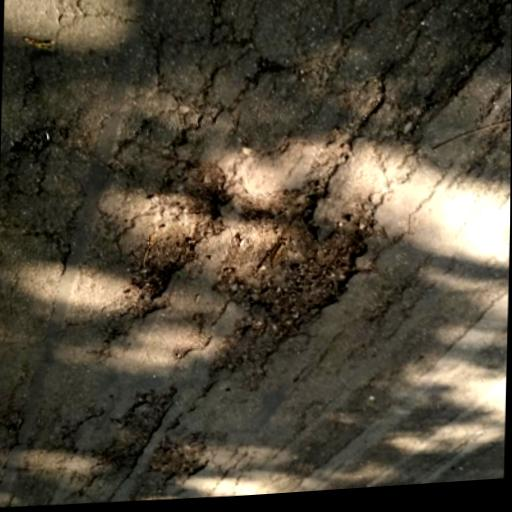pothole: (221, 175, 386, 337), (128, 161, 234, 307), (151, 430, 209, 490)
